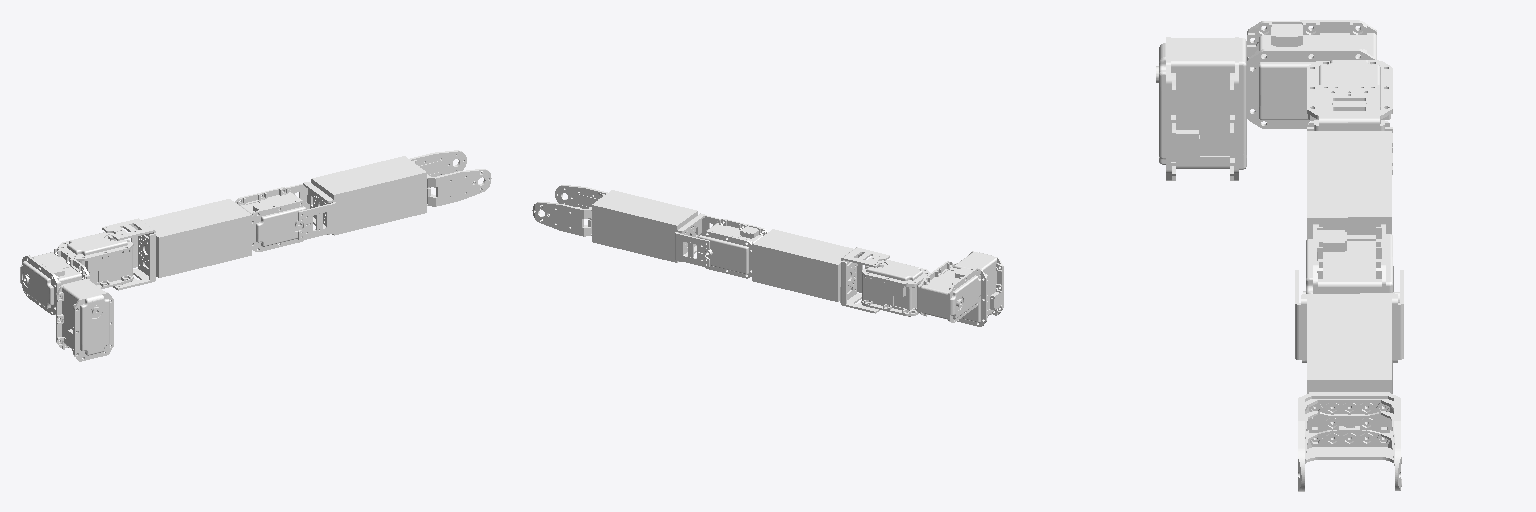
robot.urdf — manipulator:
<?xml version="1.0" encoding="utf-8"?>
<!-- =================================================================================== -->
<!-- |    This document was autogenerated by xacro from manipulator4_meshed_test.xacro | -->
<!-- |    EDITING THIS FILE BY HAND IS NOT RECOMMENDED                                 | -->
<!-- =================================================================================== -->
<robot name="manipulator">
  <!--0.5624 height to start-->
  <material name="white">
    <color rgba="1 1 1 1"/>
  </material>
  <!-- <xacro:property name="MXVolume" value="0.000070668734375"/> -->
  <!-- <xacro:property name="Link1Volume" value="0.000231393781250"/> -->
  <!-- <xacro:property name="Link2Volume" value="0.000173506343750"/> -->
  <!-- MACROS -->
  <!-- LINKS -->
  <!-- the trans parameter present here is to toggle distance of current object with respect to previous adjacent object i.e. its parent-->
  <!-- <link name="base_link">
    <xacro:LinkInertial trans="0 0 0.5624" rpy="0 0 0" />
    <xacro:LinkVisual trans="0 0 0.5624" rpy="0 0 0" />
    <xacro:LinkCollision trans="0 0 0.5624" rpy="0 0 0" />
  </link> -->
  <link name="shoulder_pitch_motor">
    <inertial>
      <origin rpy="0 0 0 " xyz="0 0 0"/>
      <mass value="0.165"/>
      <inertia ixx="6.65123572902532E-05" ixy="-4.54345384616915E-11" ixz="-5.15255173621468E-12" iyy="5.68182433930847E-05" iyz="-6.73804871717713E-07" izz="3.74108886112339E-05"/>
    </inertial>
    <visual>
      <origin rpy="0 0 0 " xyz="0 0 0"/>
      <geometry>
        <mesh filename="package://arm_imitation/meshes/mx-64.stl" scale="0.001 0.001 0.001"/>
      </geometry>
      <material name="white"/>
    </visual>
    <collision>
      <origin rpy="0 0 0" xyz="0 0 0"/>
      <geometry>
        <mesh filename="package://arm_imitation/meshes/mx-64.stl" scale="0.001 0.001 0.001"/>
      </geometry>
    </collision>
  </link>
  <link name="shoulder_roll_motor">
    <inertial>
      <origin rpy="0 0 0 " xyz="0 0 0.0481"/>
      <mass value="0.165"/>
      <inertia ixx="6.65123572902532E-05" ixy="-4.54345384616915E-11" ixz="-5.15255173621468E-12" iyy="5.68182433930847E-05" iyz="-6.73804871717713E-07" izz="3.74108886112339E-05"/>
    </inertial>
    <visual>
      <origin rpy="0 0 0 " xyz="0 0 0.0481"/>
      <geometry>
        <mesh filename="package://arm_imitation/meshes/mx-64.stl" scale="0.001 0.001 0.001"/>
      </geometry>
      <material name="white"/>
    </visual>
    <collision>
      <origin rpy="0 0 0" xyz="0 0 0.0481"/>
      <geometry>
        <mesh filename="package://arm_imitation/meshes/mx-64.stl" scale="0.001 0.001 0.001"/>
      </geometry>
    </collision>
  </link>
  <link name="shoulder_yaw_motor">
    <inertial>
      <origin rpy="0 0 0" xyz="0 0 0"/>
      <mass value="0.165"/>
      <inertia ixx="6.65123572902532E-05" ixy="-4.54345384616915E-11" ixz="-5.15255173621468E-12" iyy="5.68182433930847E-05" iyz="-6.73804871717713E-07" izz="3.74108886112339E-05"/>
    </inertial>
    <visual>
      <origin rpy="0.0 0.0 0" xyz="0 0 0"/>
      <geometry>
        <mesh filename="package://arm_imitation/meshes/mx-64.stl" scale="0.001 0.001 0.001"/>
      </geometry>
      <material name="white"/>
    </visual>
    <collision>
      <origin rpy="0 0 0" xyz="0 0 0"/>
      <geometry>
        <mesh filename="package://arm_imitation/meshes/mx-64.stl" scale="0.001 0.001 0.001"/>
      </geometry>
    </collision>
  </link>
  <link name="link_1">
    <inertial>
      <origin rpy="0 0 0" xyz="0 0 0"/>
      <mass value="0.265"/>
      <inertia ixx="0.000608361426086" ixy="7.77278472820011E-11" ixz="2.27900791642819E-11" iyy="6.93532385616405E-05" iyz="7.00240819830694E-08" izz="0.000605959073862"/>
    </inertial>
    <visual>
      <origin rpy="0.0 0.0 0" xyz="0 0 0"/>
      <geometry>
        <mesh filename="package://arm_imitation/meshes/link1.stl" scale="0.001 0.001 0.001"/>
      </geometry>
      <material name="white"/>
    </visual>
    <collision>
      <origin rpy="0 0 0" xyz="0 0 0"/>
      <geometry>
        <mesh filename="package://arm_imitation/meshes/link1.stl" scale="0.001 0.001 0.001"/>
      </geometry>
    </collision>
  </link>
  <link name="link_2">
    <inertial>
      <origin rpy="0 0 0" xyz="0 0 0"/>
      <mass value="0.265"/>
      <inertia ixx="0.000353833500666" ixy="-9.91181241544464E-11" ixz="2.17719851471636E-11" iyy="7.68817830247818E-05" iyz="-6.50168183616403E-07" izz="0.000363033715751"/>
    </inertial>
    <visual>
      <origin rpy="0.0 0.0 0" xyz="0 0 0"/>
      <geometry>
        <mesh filename="package://arm_imitation/meshes/link2.stl" scale="0.001 0.001 0.001"/>
      </geometry>
      <material name="white"/>
    </visual>
    <collision>
      <origin rpy="0 0 0" xyz="0 0 0"/>
      <geometry>
        <mesh filename="package://arm_imitation/meshes/link2.stl" scale="0.001 0.001 0.001"/>
      </geometry>
    </collision>
  </link>
  <joint name="shoulder_pitch" type="revolute">
    <origin rpy="-1.57 -1.57 0" xyz="0 0.0205 0"/>
    <parent link="shoulder_pitch_motor"/>
    <child link="shoulder_roll_motor"/>
    <axis xyz="0 0 1"/>
    <limit effort="30" lower="-3.14" upper="3.14" velocity="1.0"/>
  </joint>
  <joint name="shoulder_roll" type="revolute">
    <origin rpy="1.57 1.57 3.14" xyz="0 0.0686 0.0481"/>
    <parent link="shoulder_roll_motor"/>
    <child link="shoulder_yaw_motor"/>
    <axis xyz="0 0 -1"/>
    <limit effort="30" lower="-3.14" upper="3.14" velocity="1.0"/>
  </joint>
  <joint name="shoulder_yaw" type="revolute">
    <origin rpy="1.57 0 -1.57" xyz="0 0 0"/>
    <parent link="shoulder_yaw_motor"/>
    <child link="link_1"/>
    <axis xyz="1 0 0"/>
    <limit effort="30" lower="-1.57" upper="1.57" velocity="1.0"/>
  </joint>
  <joint name="elbow_pitch" type="revolute">
    <origin rpy="0 -1.57 0" xyz="0 0.1801 0"/>
    <parent link="link_1"/>
    <child link="link_2"/>
    <axis xyz="1 0 0"/>
    <limit effort="30" lower="-1.57" upper="1.57" velocity="1.0"/>
  </joint>
  <!-- <xacro:RevJoint id="shoulder_yaw" trans="0 ${MXLengthAxisLong} 0" rpy="-1.57 1.57 1.57" parent="shoulder_pitch_motor" child="link_1" axis="-1 0 0" l="-1.57" u="1.57" v="1.0"/> -->
  <!-- <xacro:RevJoint id="elbow_pitch" trans="0 -${MXBracketLength + LinkLength + MXLengthAxisLong} 0" rpy="0 0 0" parent="link_1" child="link_2" axis="0 0 1" l="-1.57" u="1.57" v="1.0"/> -->
  <!-- axis="1 0 0" l="-1.57" u="1.57" v="1.0" -->
  <!-- <xacro:FxdJoint id="biceps_start" trans="0 0 ${MXBracketLength}" rpy="0 0 3.14" parent="shoulder_bracket" child="biscep"/>
  <xacro:FxdJoint id="biceps_end" trans="0 0 ${LinkLength}" rpy="1.57 0 1.57" parent="biscep" child="elbow_motor"/>
  <xacro:RevJoint id="elbow_pitch" trans="0 ${MXLengthAxisLong} 0" rpy="0 1.57 1.57" parent="elbow_motor" child="elbow_bracket" axis="1 0 0" l="-1.57" u="1.57" v="1.0"/>
  <xacro:FxdJoint id="forearm_start" trans="0 0 ${MXBracketLength}" rpy="0 0 3.14" parent="elbow_bracket" child="forearm"/>
  <xacro:FxdJoint id="forearm_end" trans="0 0 ${LinkLength}" rpy="1.57 0 1.57" parent="forearm" child="wrist_bracket"/> -->
</robot>

--- Render facts (derived) ---
Views: 3 orthographic renders of the robot side by side, from view 1: azimuth 30°, elevation 25°; view 2: azimuth 150°, elevation 25°; view 3: azimuth 270°, elevation 25°.
Model manipulator with 5 links and 4 joints (4 revolute), rooted at shoulder_pitch_motor, posed every joint at zero.
Visible links, largest first — view 1: link_1, link_2, shoulder_pitch_motor, shoulder_yaw_motor, shoulder_roll_motor; view 2: link_1, link_2, shoulder_roll_motor, shoulder_yaw_motor, shoulder_pitch_motor; view 3: link_2, link_1, shoulder_pitch_motor, shoulder_roll_motor, shoulder_yaw_motor.
Boxes of the visible links, left/top/right/bottom form: link_1: left=102, top=187, right=309, bottom=290; link_2: left=282, top=150, right=491, bottom=240; shoulder_pitch_motor: left=56, top=279, right=113, bottom=361; shoulder_yaw_motor: left=58, top=232, right=133, bottom=288; shoulder_roll_motor: left=20, top=248, right=89, bottom=314; link_1: left=698, top=219, right=889, bottom=313; link_2: left=532, top=185, right=720, bottom=267; shoulder_roll_motor: left=917, top=261, right=980, bottom=322; shoulder_yaw_motor: left=861, top=260, right=929, bottom=316; shoulder_pitch_motor: left=953, top=251, right=1003, bottom=326; link_2: left=1295, top=270, right=1403, bottom=491; link_1: left=1303, top=85, right=1399, bottom=302; shoulder_pitch_motor: left=1156, top=37, right=1253, bottom=180; shoulder_roll_motor: left=1247, top=20, right=1376, bottom=128; shoulder_yaw_motor: left=1307, top=60, right=1392, bottom=174.
Bounding box of the posed robot: 0.4677 × 0.1162 × 0.0736 m (x, y, z).
Meshes: 3 distinct files referenced, 5 mesh visuals loaded (3 binary STL).